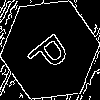P: (25, 25, 78, 79)
